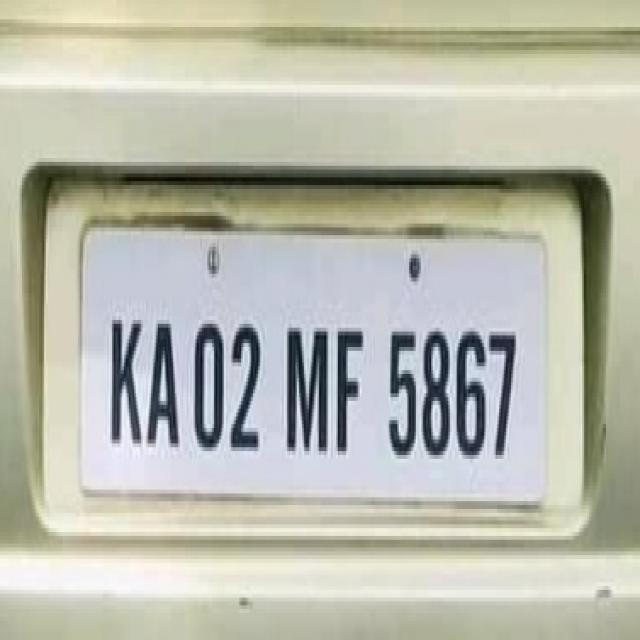0: (190, 313, 228, 462)
5: (384, 320, 418, 458)
6: (454, 324, 488, 472)
7: (487, 313, 519, 470)
8: (420, 322, 454, 462)
A: (145, 303, 183, 453)
F: (332, 314, 368, 466)
K: (105, 304, 144, 448)
M: (281, 312, 332, 458)
